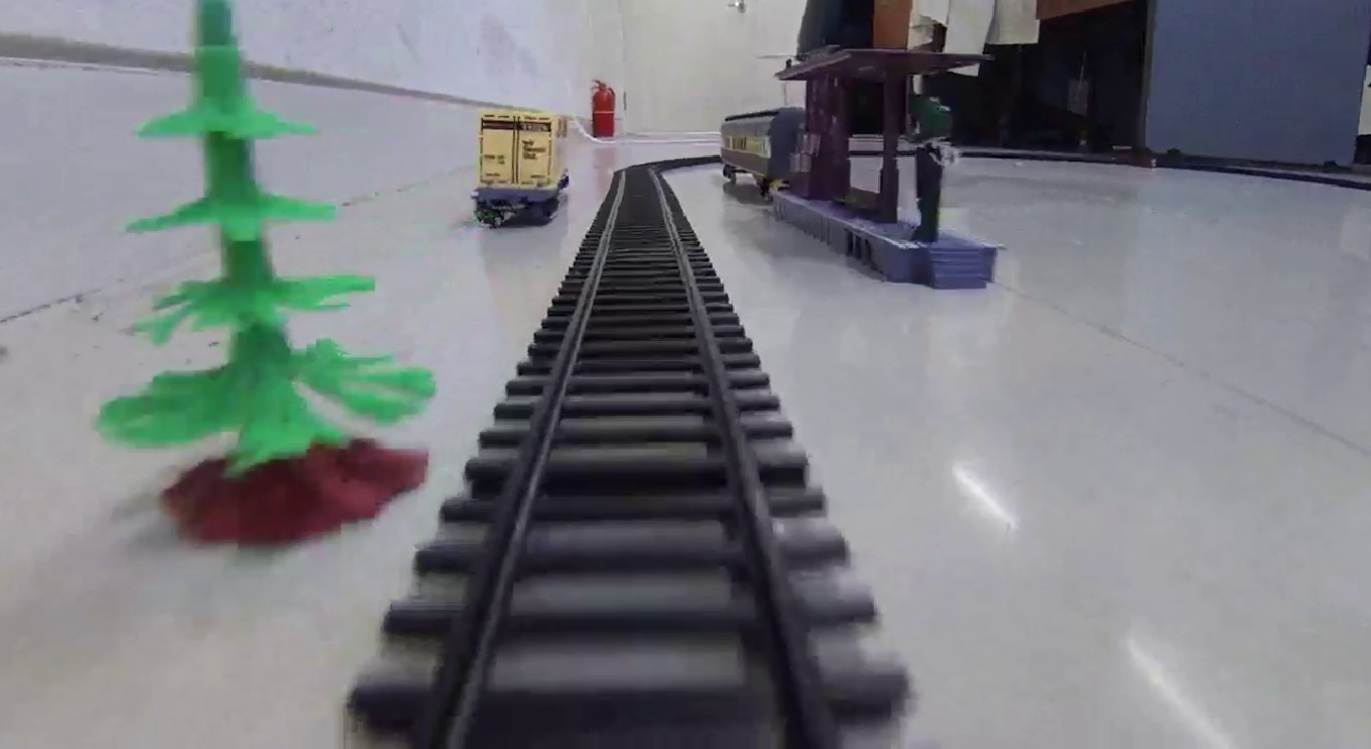people: (909, 94, 960, 239)
tree: (92, 1, 430, 547)
